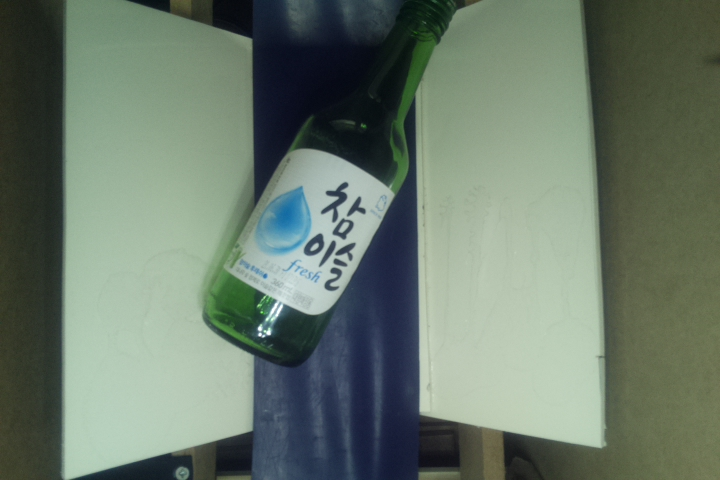soju: (198, 1, 468, 368)
